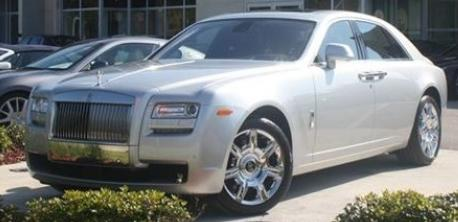front_view: (26, 83, 216, 207)
headlight: (149, 95, 203, 132)
side_glass: (313, 14, 406, 64)
